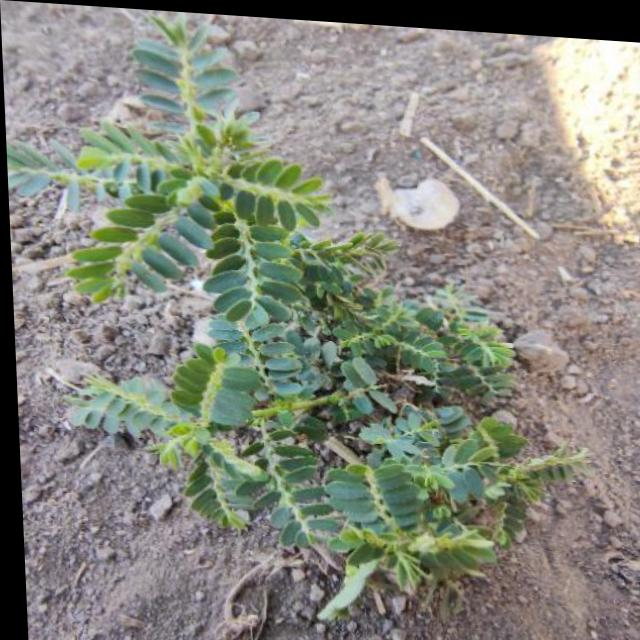weed: (92, 95, 561, 640)
